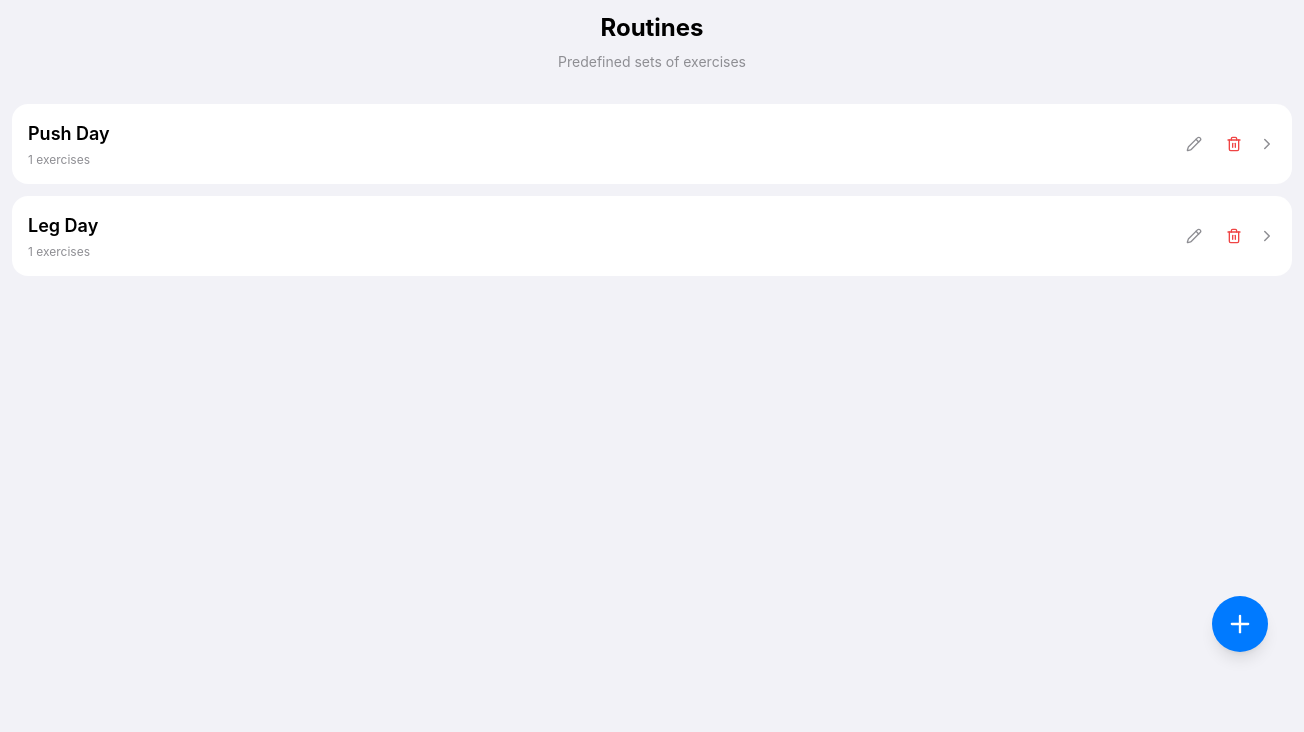
Test: RoutinesScreen › navigates to detail view when a routine is clicked
The width and height of the screenshot is (1304, 732).
Click the button named "Push Day" at (652, 144), box left=12, top=104, right=1292, bottom=184
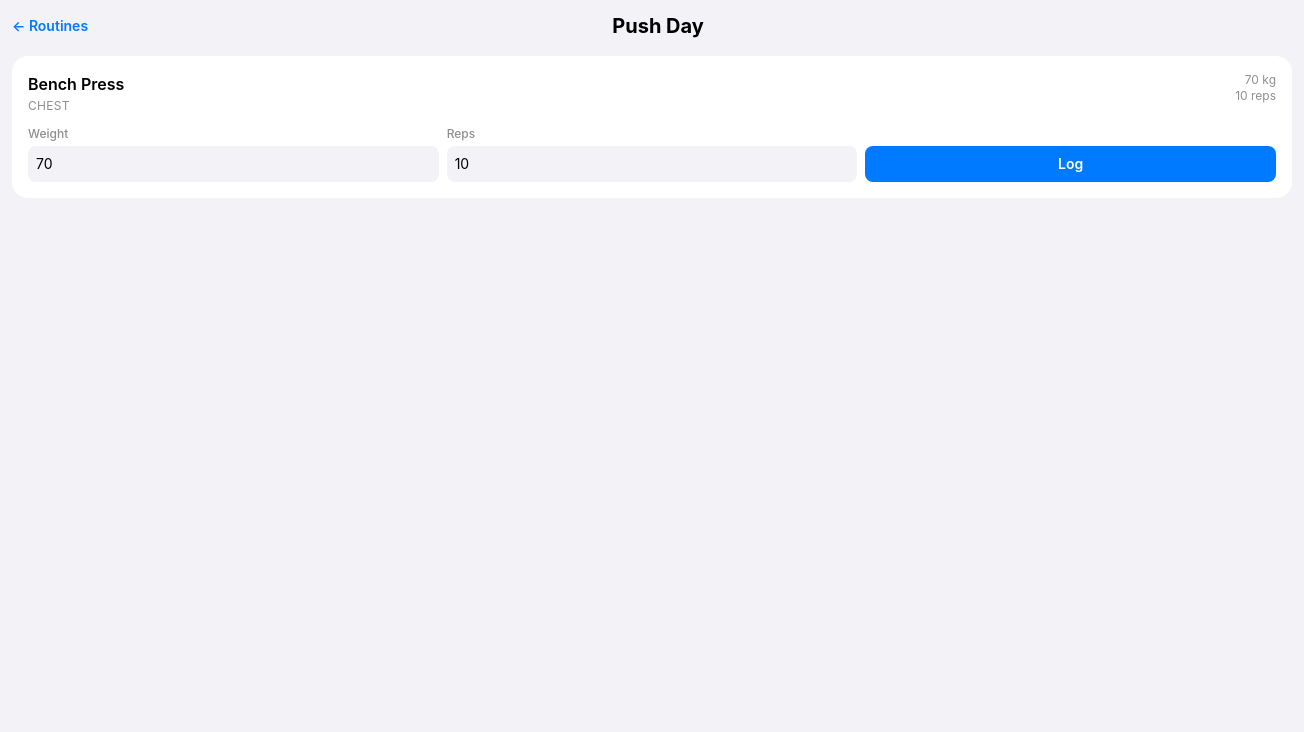
Result: the heading "Bench Press" is shown at left=28, top=72, right=124, bottom=96
